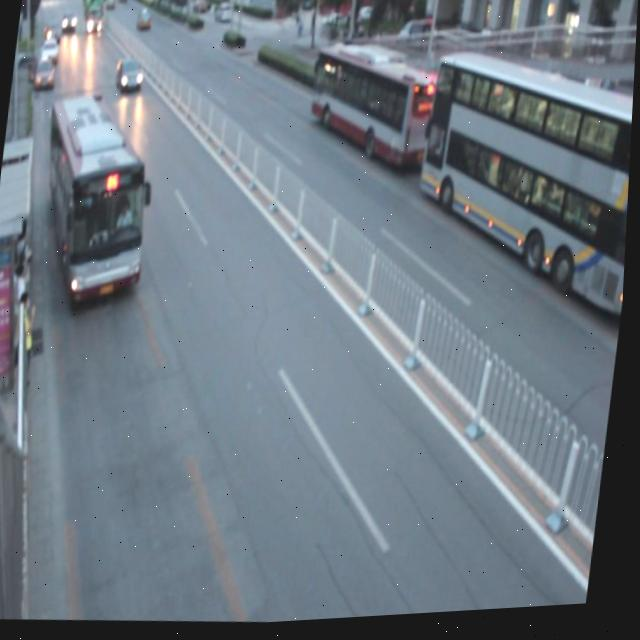car: (115, 55, 145, 93), (33, 56, 59, 91)
van: (411, 49, 637, 332), (30, 91, 161, 311), (304, 46, 450, 181)
